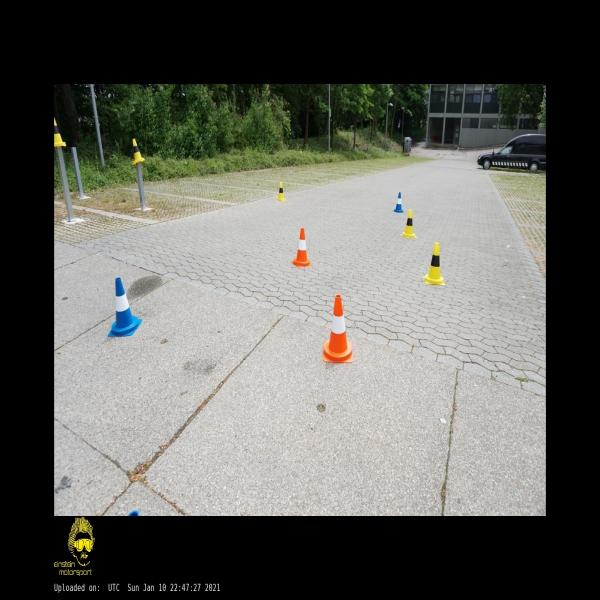blue_cone: (108, 277, 143, 337), (394, 192, 403, 213)
orange_cone: (324, 295, 352, 363), (291, 228, 311, 266)
yellow_cone: (424, 242, 445, 285), (402, 210, 416, 238), (131, 138, 145, 164), (54, 118, 66, 147), (277, 182, 286, 201)
